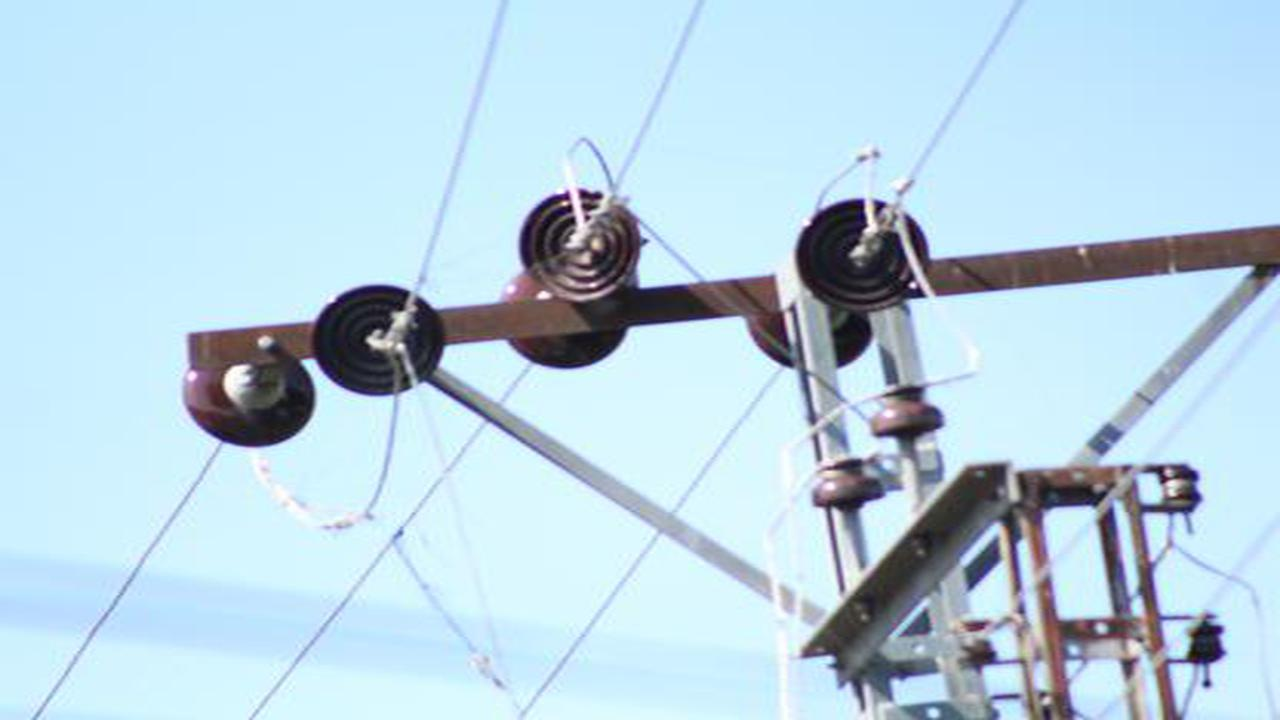insulator_disc: (793, 194, 935, 319), (306, 282, 449, 399), (515, 186, 647, 307), (179, 353, 322, 446)
insulator_pin: (868, 382, 949, 444), (805, 455, 890, 511)
